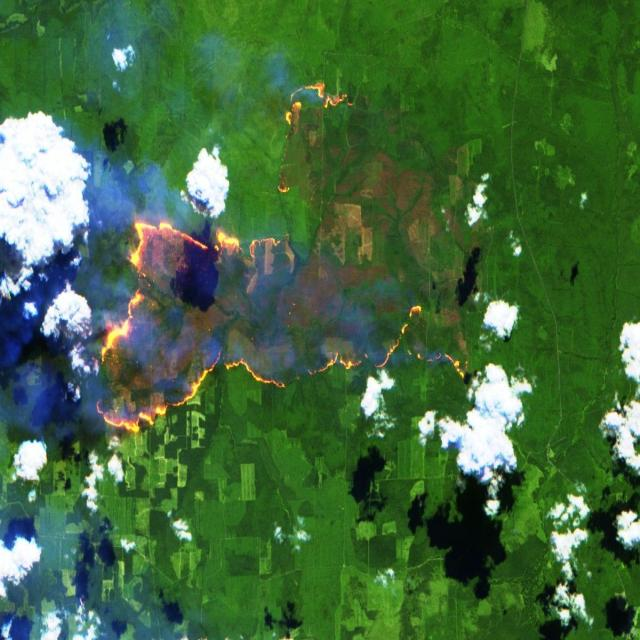fire: (91, 215, 466, 444), (274, 79, 354, 200)
